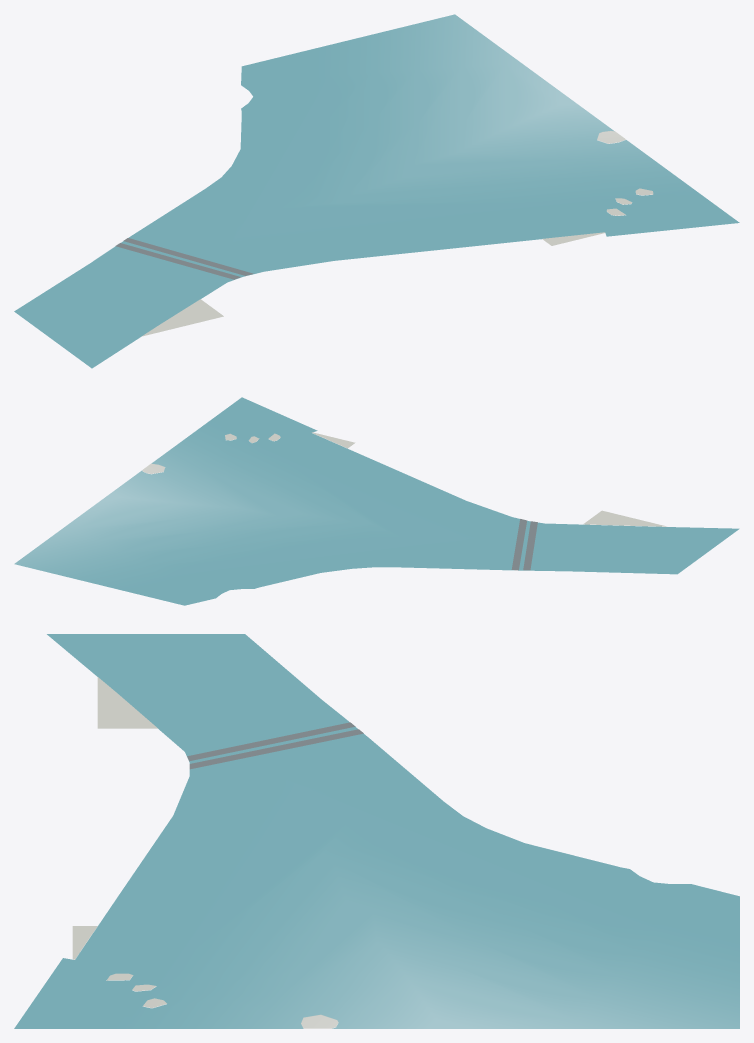
3 views of the same model, one above another, from view 1: azimuth 30°, elevation 25°; view 2: azimuth 150°, elevation 25°; view 3: azimuth 270°, elevation 25° (orthographic). The views are drawn at different scales.
Visible parts, largest first — view 1: city; view 2: city; view 3: city.
Boxes of the visible parts, x1,y1,x2,y2 form: city: (14,14,739,368); city: (14,397,739,605); city: (14,634,739,1028).
Bounding box in the file's own units: 500 × 0.24 × 388.
